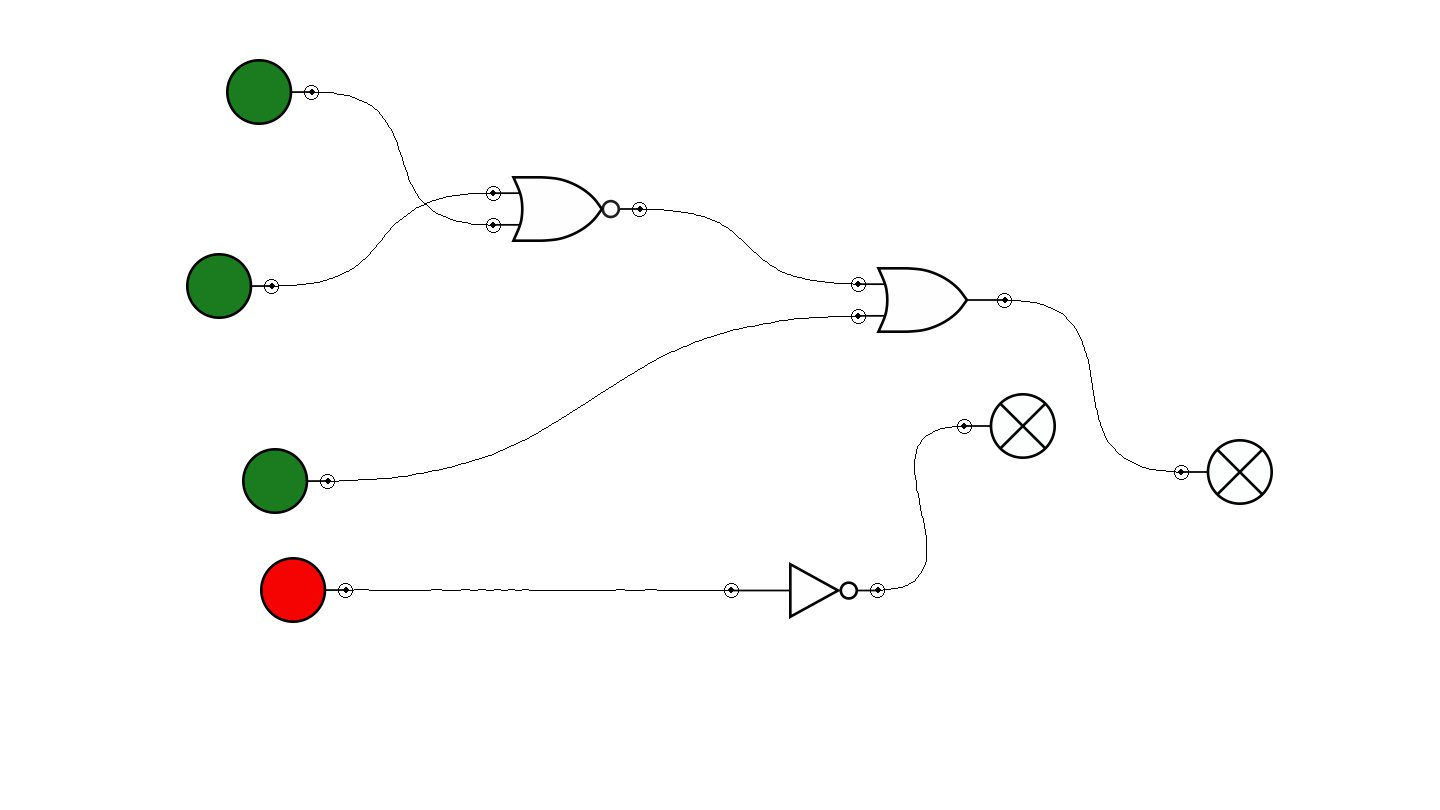bulb: (957, 393, 1056, 459), (1174, 439, 1273, 505)
nor: (486, 176, 647, 242)
not: (724, 562, 885, 619)
or: (851, 267, 1012, 333)
switch_False: (260, 557, 353, 623)
switch_True: (186, 253, 279, 319), (226, 59, 319, 125), (242, 448, 335, 514)
